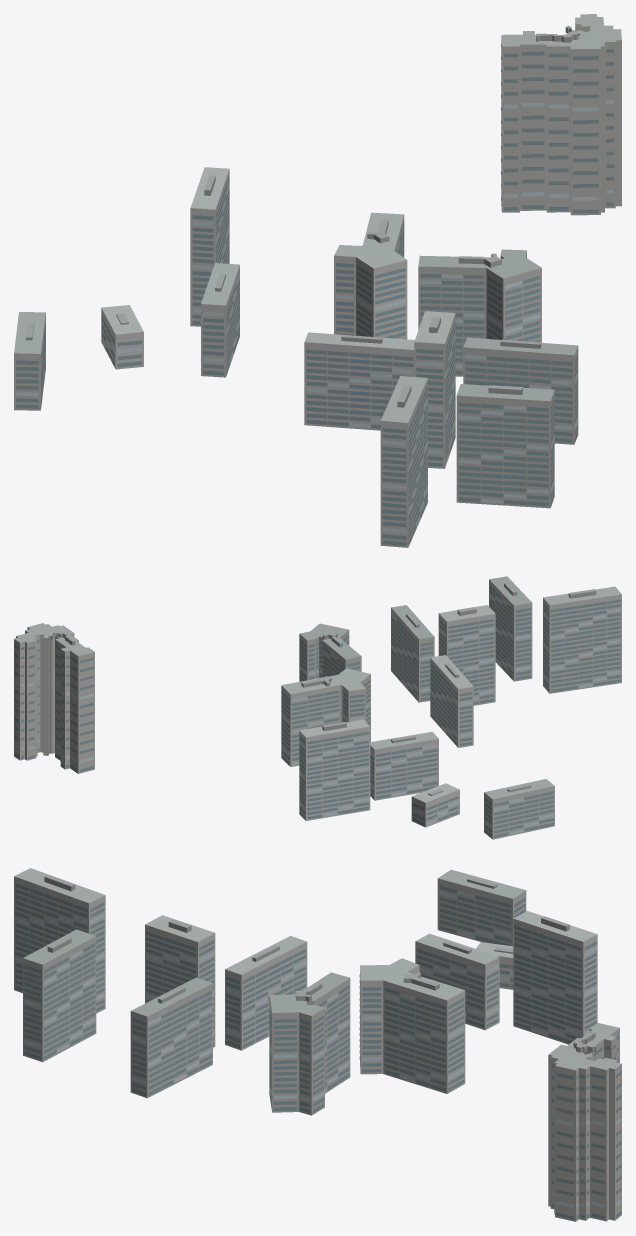
The model's file is apt-a12170601.glb.
3 renders of one model, top to bottom at view 1: azimuth 30°, elevation 25°; view 2: azimuth 150°, elevation 25°; view 3: azimuth 270°, elevation 25°, orthographic. The views are drawn at different scales.
Visible parts, largest first — view 1: apt-a12170601; view 2: apt-a12170601; view 3: apt-a12170601.
Part boxes in pixels (bbox=[...]): apt-a12170601: bbox=[14, 14, 621, 547]; apt-a12170601: bbox=[14, 576, 621, 839]; apt-a12170601: bbox=[14, 868, 621, 1221].
Bounding box in the file's own units: 309 × 75 × 264.
